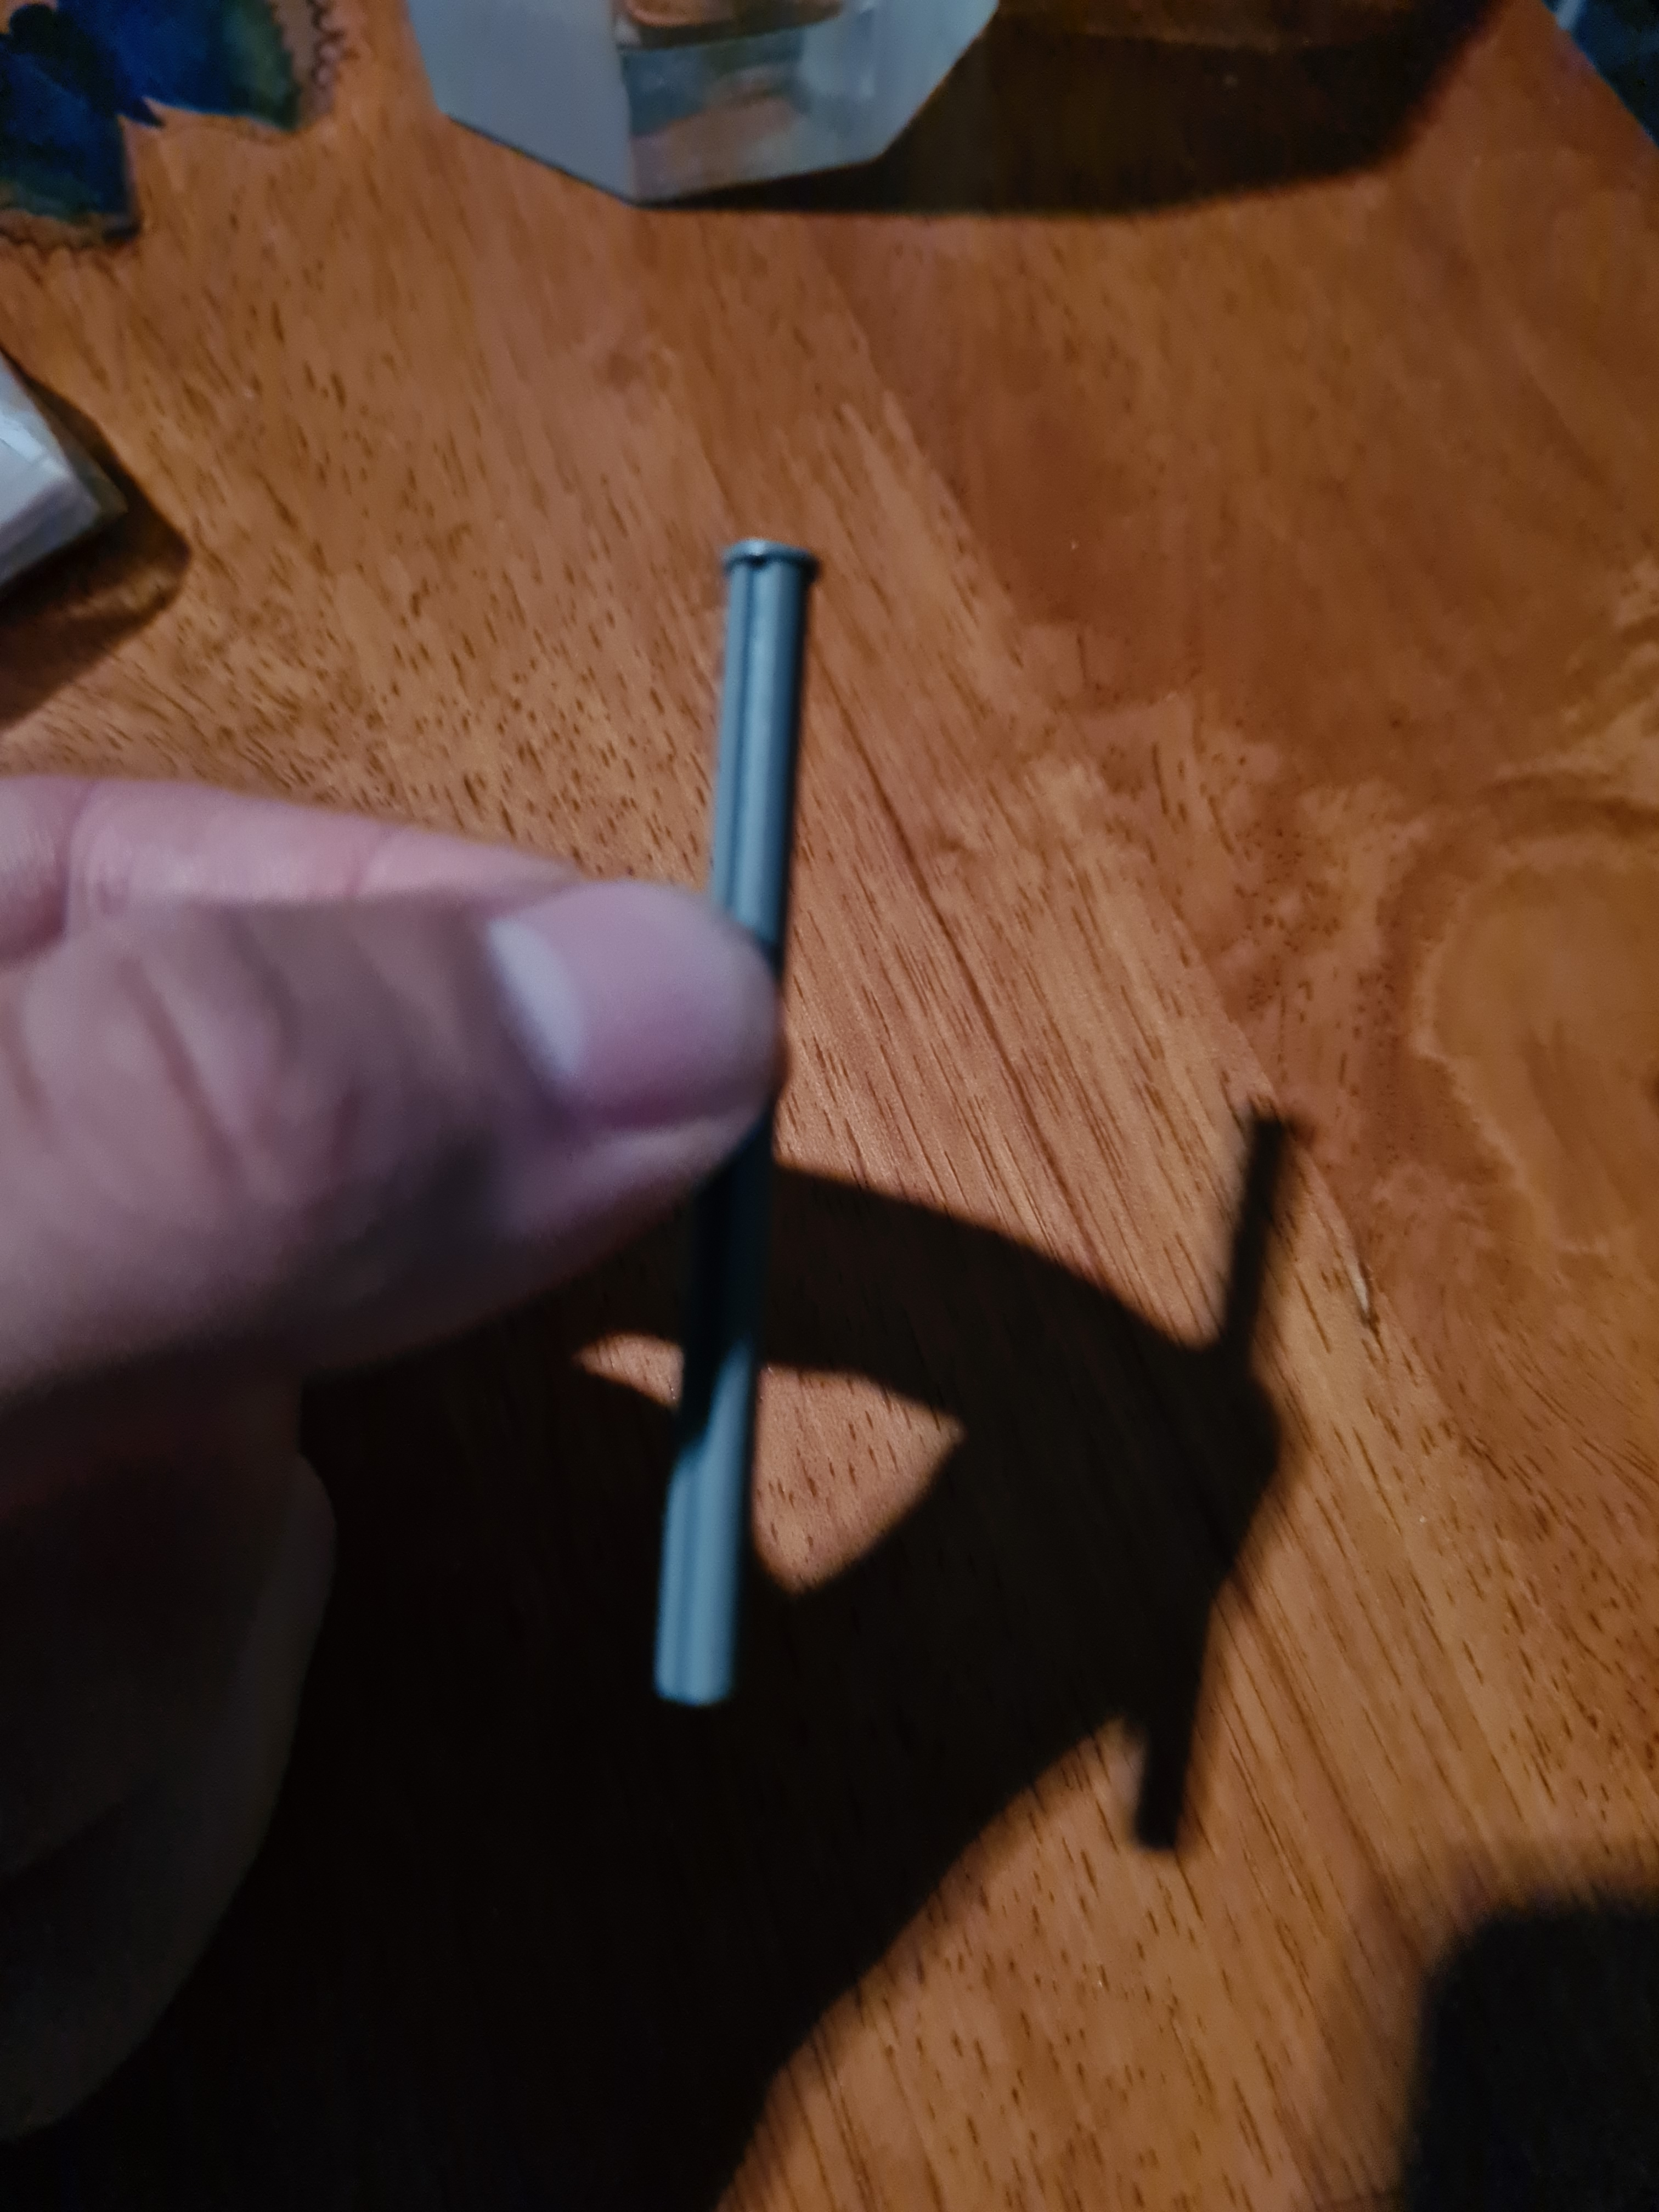Grau_lang: (645, 514, 843, 1723)
